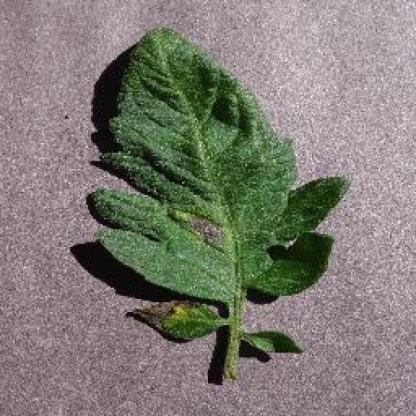Tomato_Blight: (96, 30, 347, 355)
